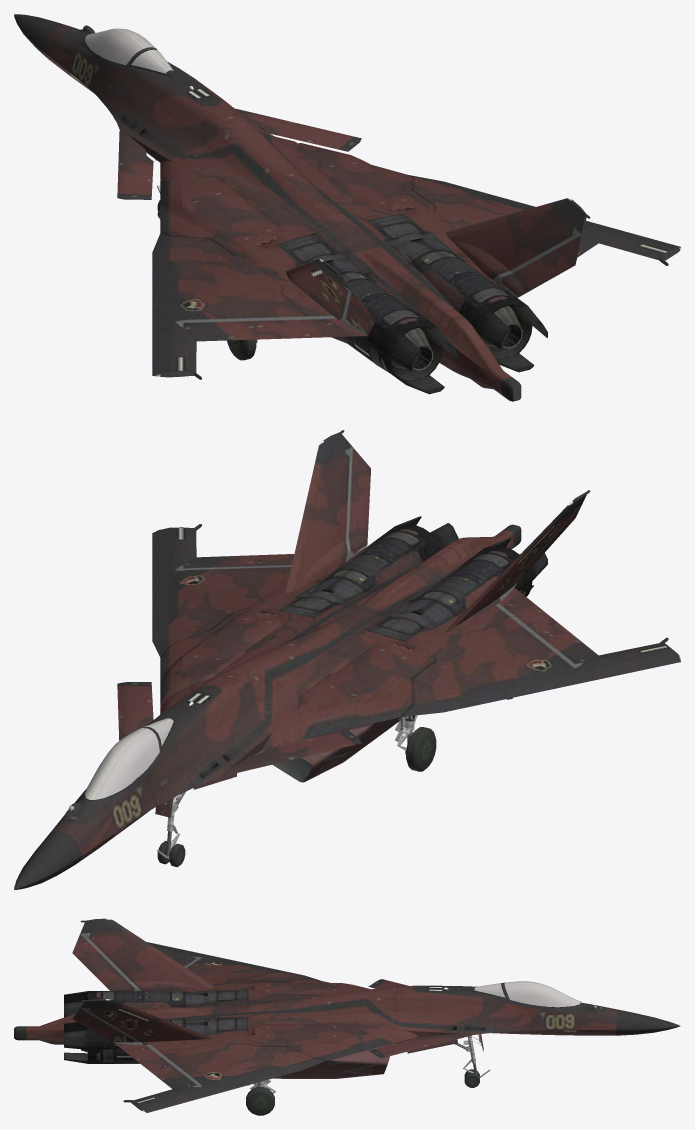
The picture shows the model from 3 angles, top to bottom: view 1: azimuth 30°, elevation 25°; view 2: azimuth 150°, elevation 25°; view 3: azimuth 270°, elevation 25°; orthographic projection. The views are drawn at different scales.
Parts seen in each view (by area): view 1: DrawCall66; view 2: DrawCall66; view 3: DrawCall66.
Part boxes in pixels (x1,y1,x2,y2): DrawCall66: (14, 14, 680, 401); DrawCall66: (14, 430, 680, 889); DrawCall66: (14, 918, 680, 1115).
Size of the model in its own units: 99.07 by 34.26 by 163.
Materials: 4 (4 with a texture image).
